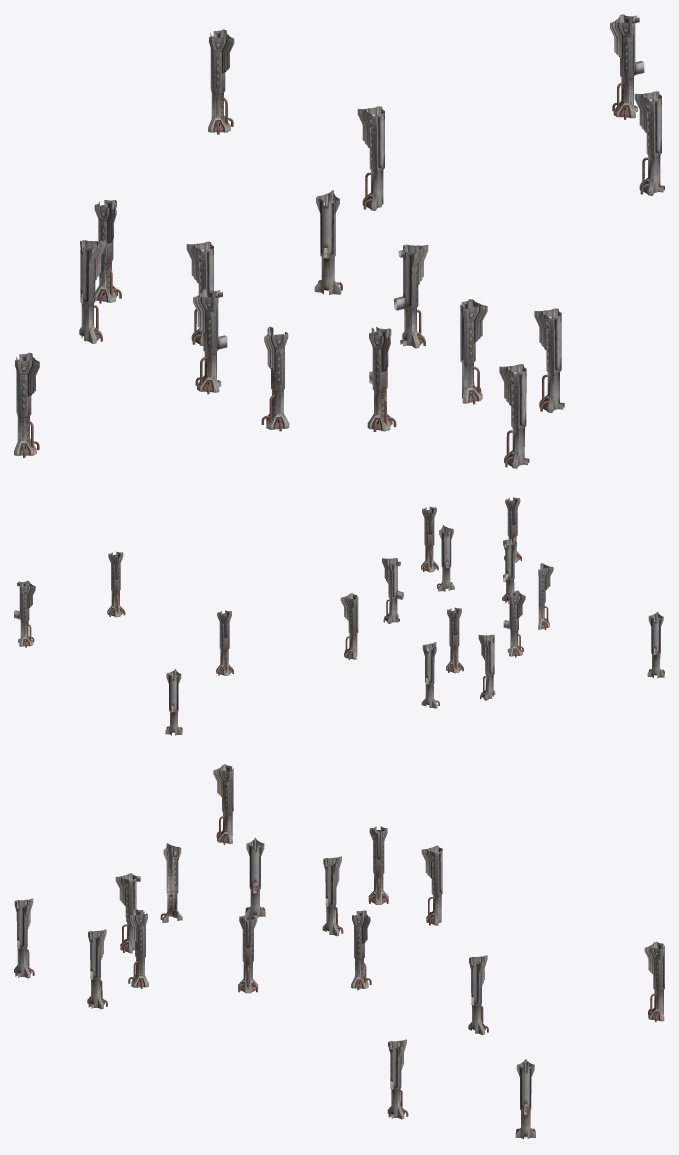
File: pillars.fbx
3 views of the same model, one above another, from view 1: azimuth 30°, elevation 25°; view 2: azimuth 150°, elevation 25°; view 3: azimuth 270°, elevation 25° (orthographic). The views are drawn at different scales.
Visible parts, largest first — view 1: ISAResistancePillarGroup; view 2: ISAResistancePillarGroup; view 3: ISAResistancePillarGroup.
Boxes of the visible parts, bbox=[...] form: ISAResistancePillarGroup: bbox=[14, 14, 664, 468]; ISAResistancePillarGroup: bbox=[14, 497, 664, 735]; ISAResistancePillarGroup: bbox=[14, 764, 664, 1138].
Bounding box in the file's own units: 3672 × 408 × 3284.
Materials: 1 (1 with a texture image).
